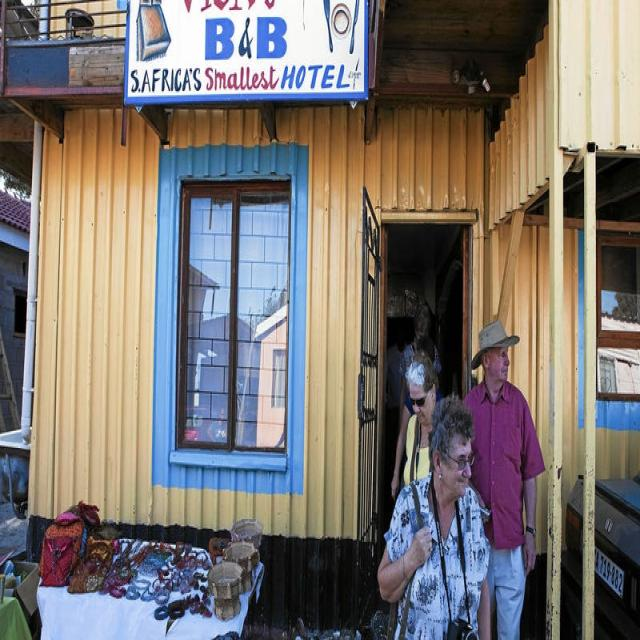body: (376, 392, 494, 638), (458, 317, 546, 640), (393, 280, 468, 442), (390, 332, 443, 506), (398, 302, 443, 429), (402, 348, 440, 486), (191, 370, 258, 448), (384, 318, 413, 498)
